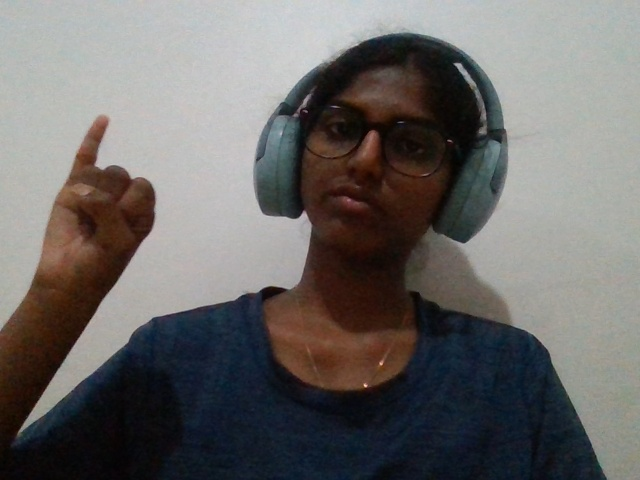I: (13, 102, 168, 377)
